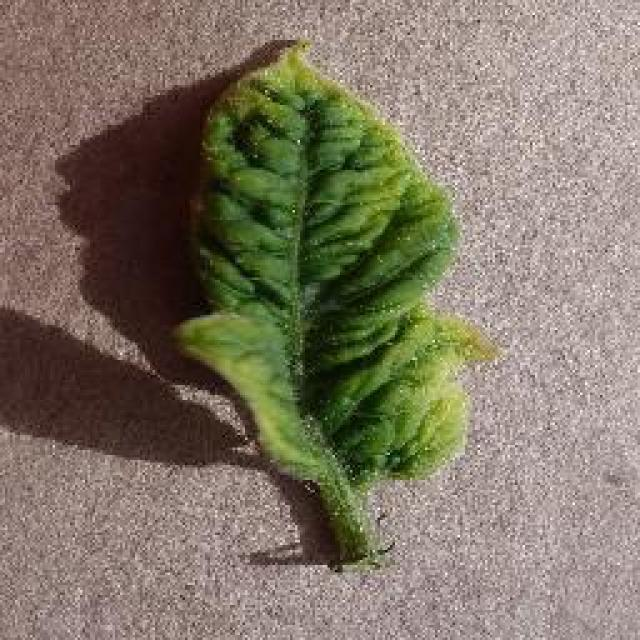Tomato yellow virus leaf: (166, 32, 502, 498)
